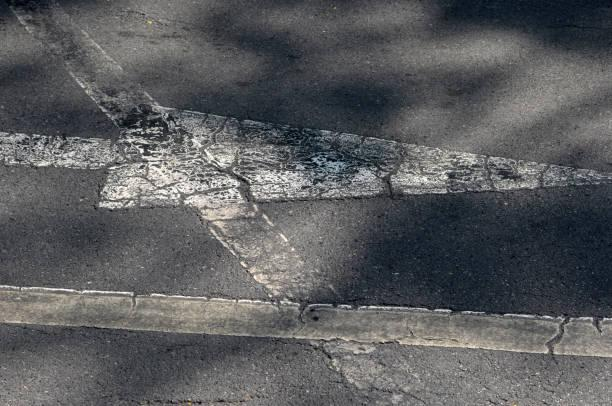faded_road_lines: (0, 105, 611, 213), (0, 277, 612, 372)
